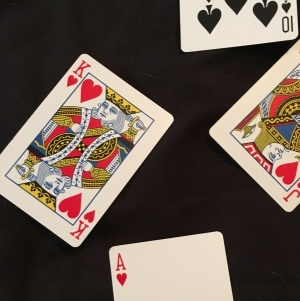card: (1, 50, 175, 251)
